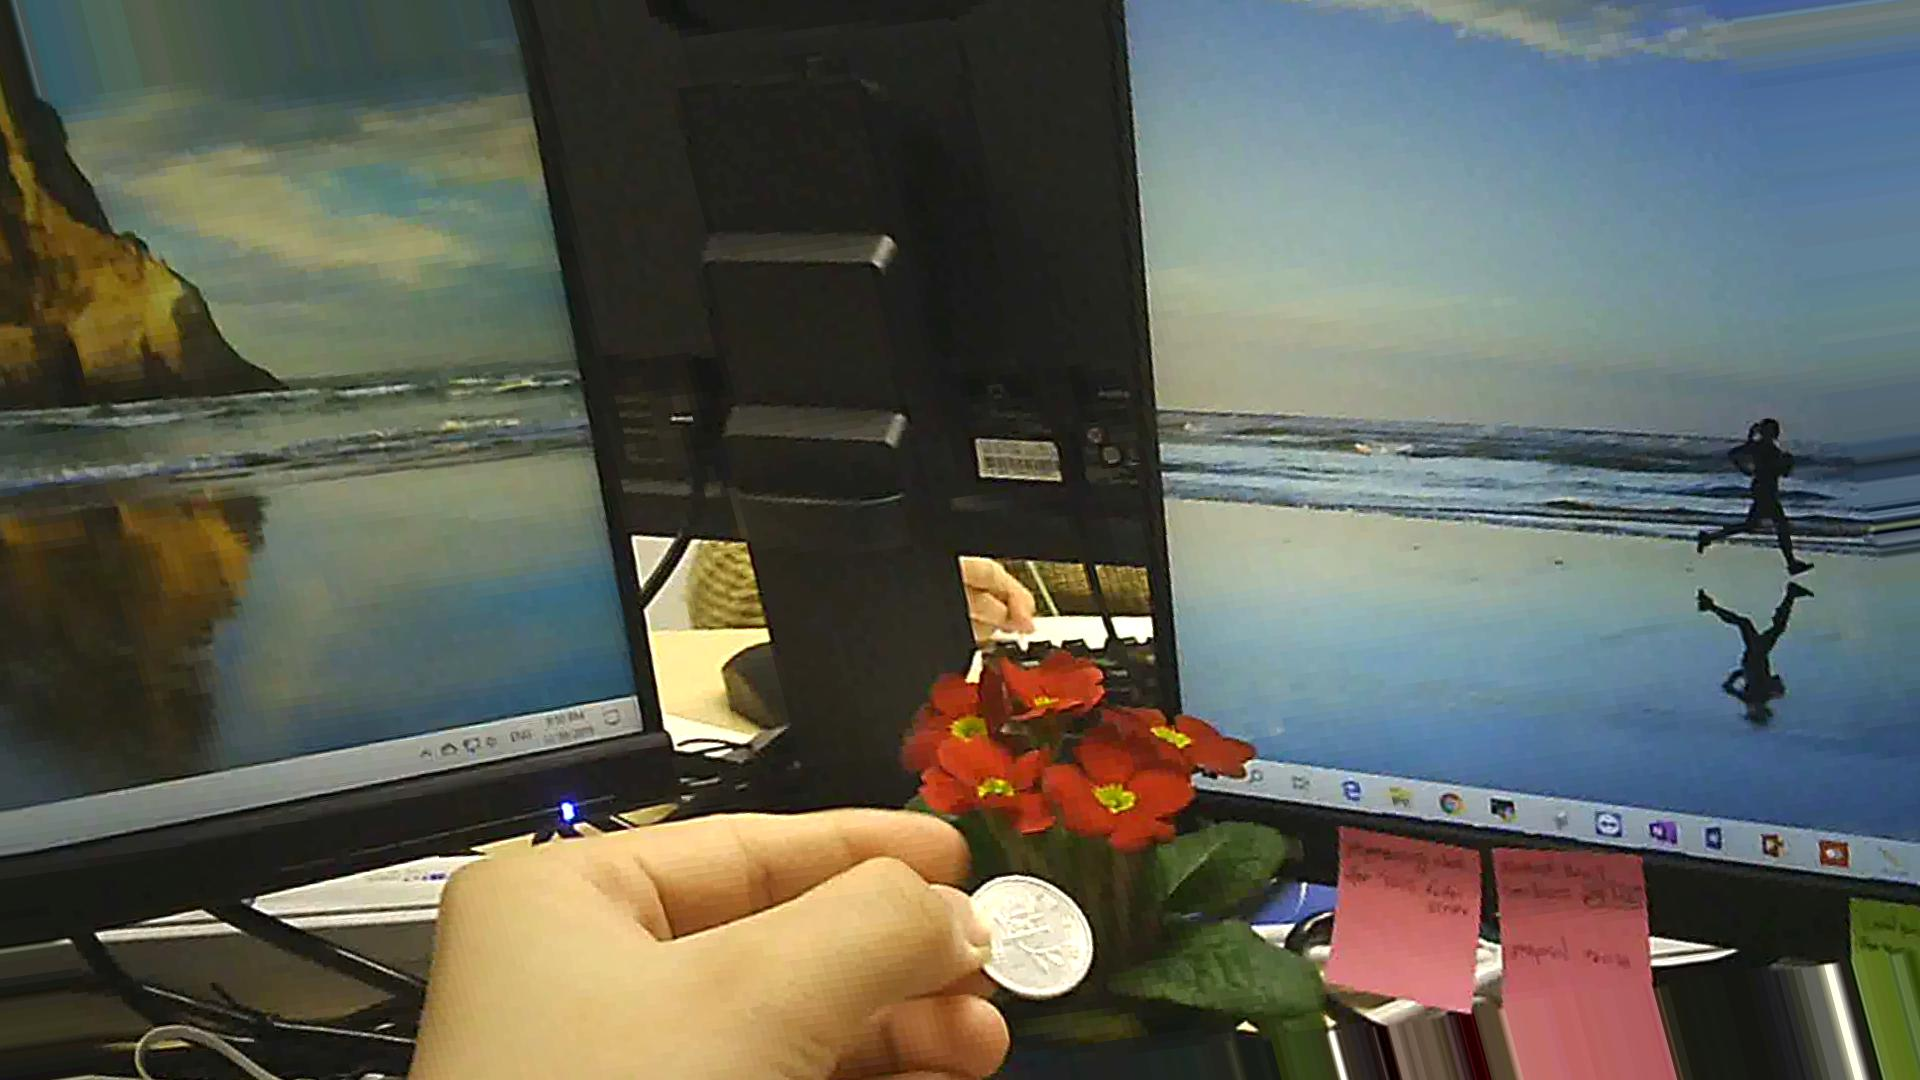1 Yen: (956, 862, 1102, 989)
